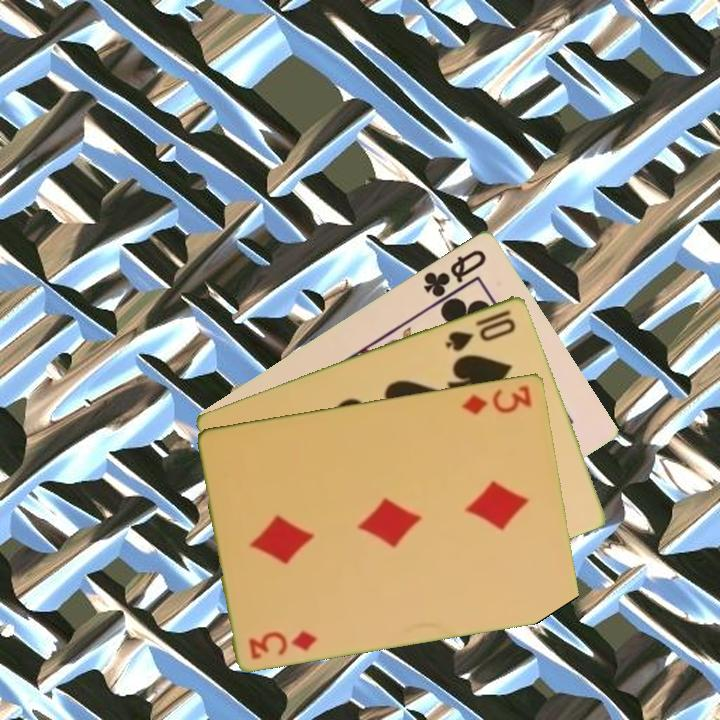10s: (442, 306, 519, 354)
3d: (458, 381, 535, 417), (245, 626, 321, 662)
Qc: (419, 245, 490, 300)
